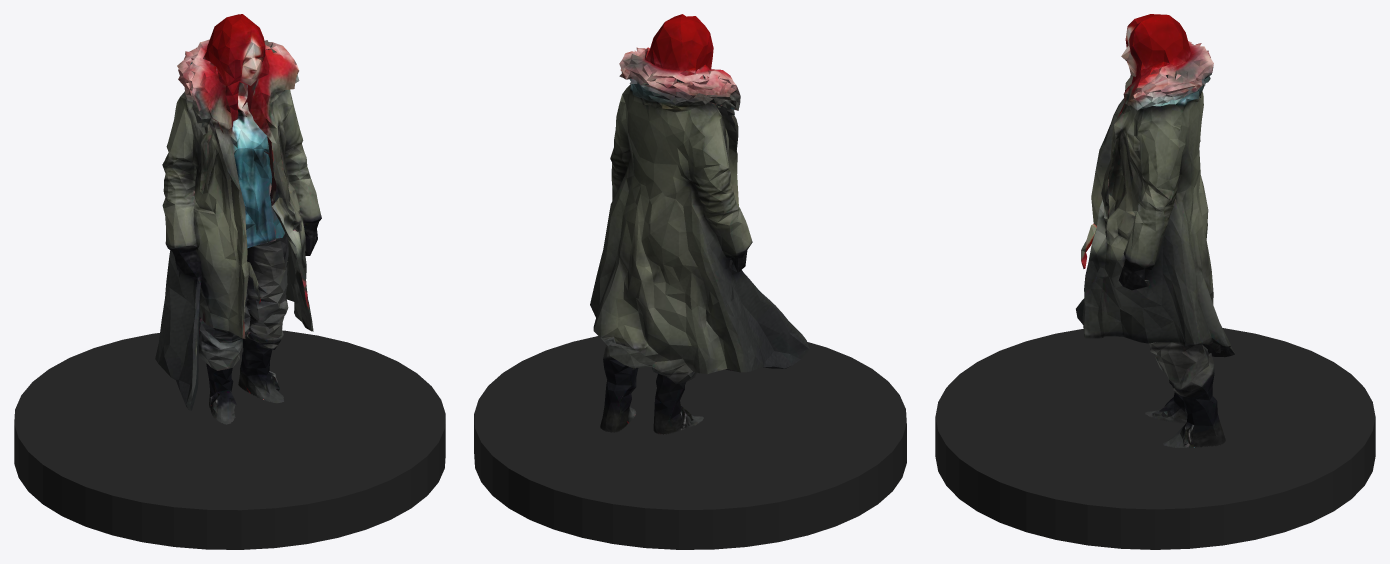
Rendered from janet-taylor.glb.
3 views of the same model, side by side, from view 1: azimuth 30°, elevation 25°; view 2: azimuth 150°, elevation 25°; view 3: azimuth 270°, elevation 25° (orthographic).
Parts seen in each view (by area): view 1: base, figure; view 2: base, figure; view 3: base, figure.
Boxes of the visible parts, <box> form: base: <box>14,330,445,549</box>; figure: <box>155,14,321,424</box>; base: <box>474,336,906,549</box>; figure: <box>590,14,809,434</box>; base: <box>935,328,1375,549</box>; figure: <box>1076,14,1234,447</box>.
Bounding box in the file's own units: 1.18 × 1.32 × 1.18.
Materials: 2 (1 with a texture image).
